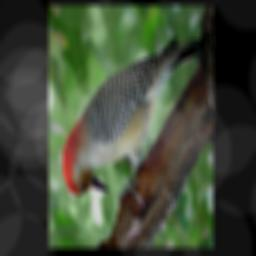Woodpecker: (60, 32, 205, 209)
